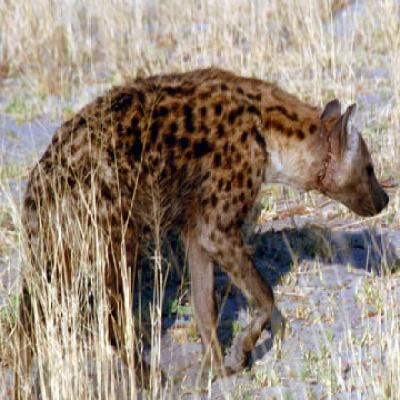hyenas: (10, 46, 400, 384)
